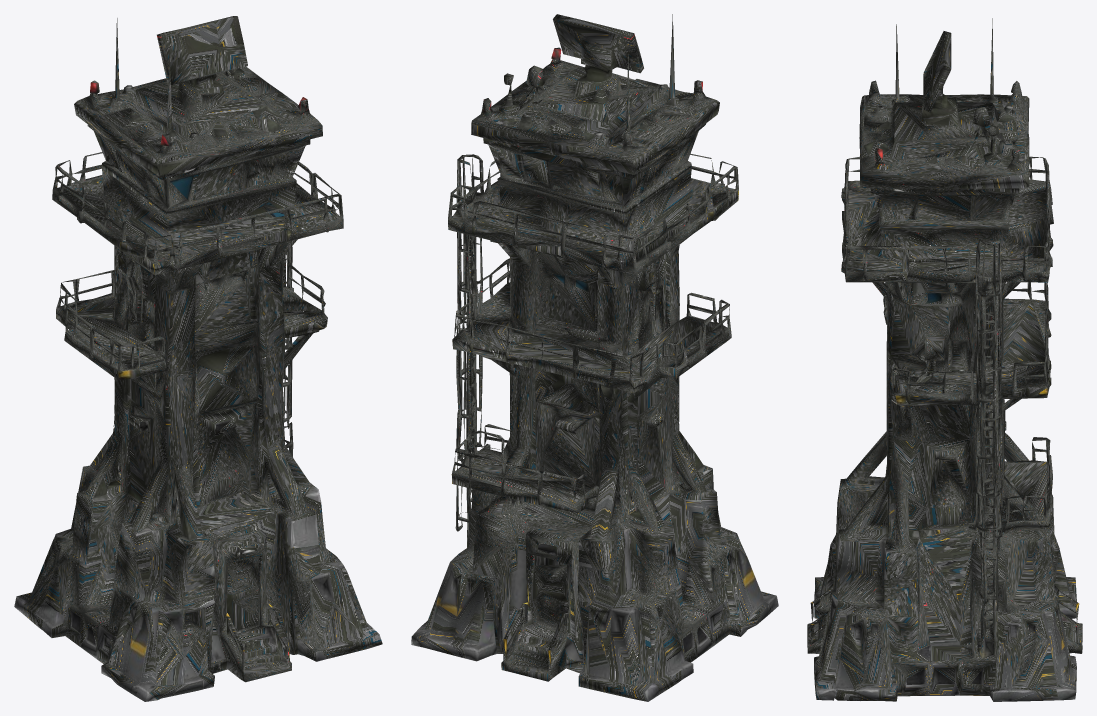
The model's file is gt_sentinel.glb.
The picture shows the model from 3 angles, left to right: view 1: azimuth 30°, elevation 25°; view 2: azimuth 150°, elevation 25°; view 3: azimuth 270°, elevation 25°; orthographic projection.
Parts seen in each view (by area): view 1: gt_sentinel; view 2: gt_sentinel; view 3: gt_sentinel.
Boxes of the visible parts, bbox=[...] form: gt_sentinel: bbox=[14, 16, 382, 701]; gt_sentinel: bbox=[411, 14, 778, 701]; gt_sentinel: bbox=[807, 18, 1082, 701].
Size of the model in its own units: 0.8053 by 1.9 by 0.7898.
1 material, 1 textured.
